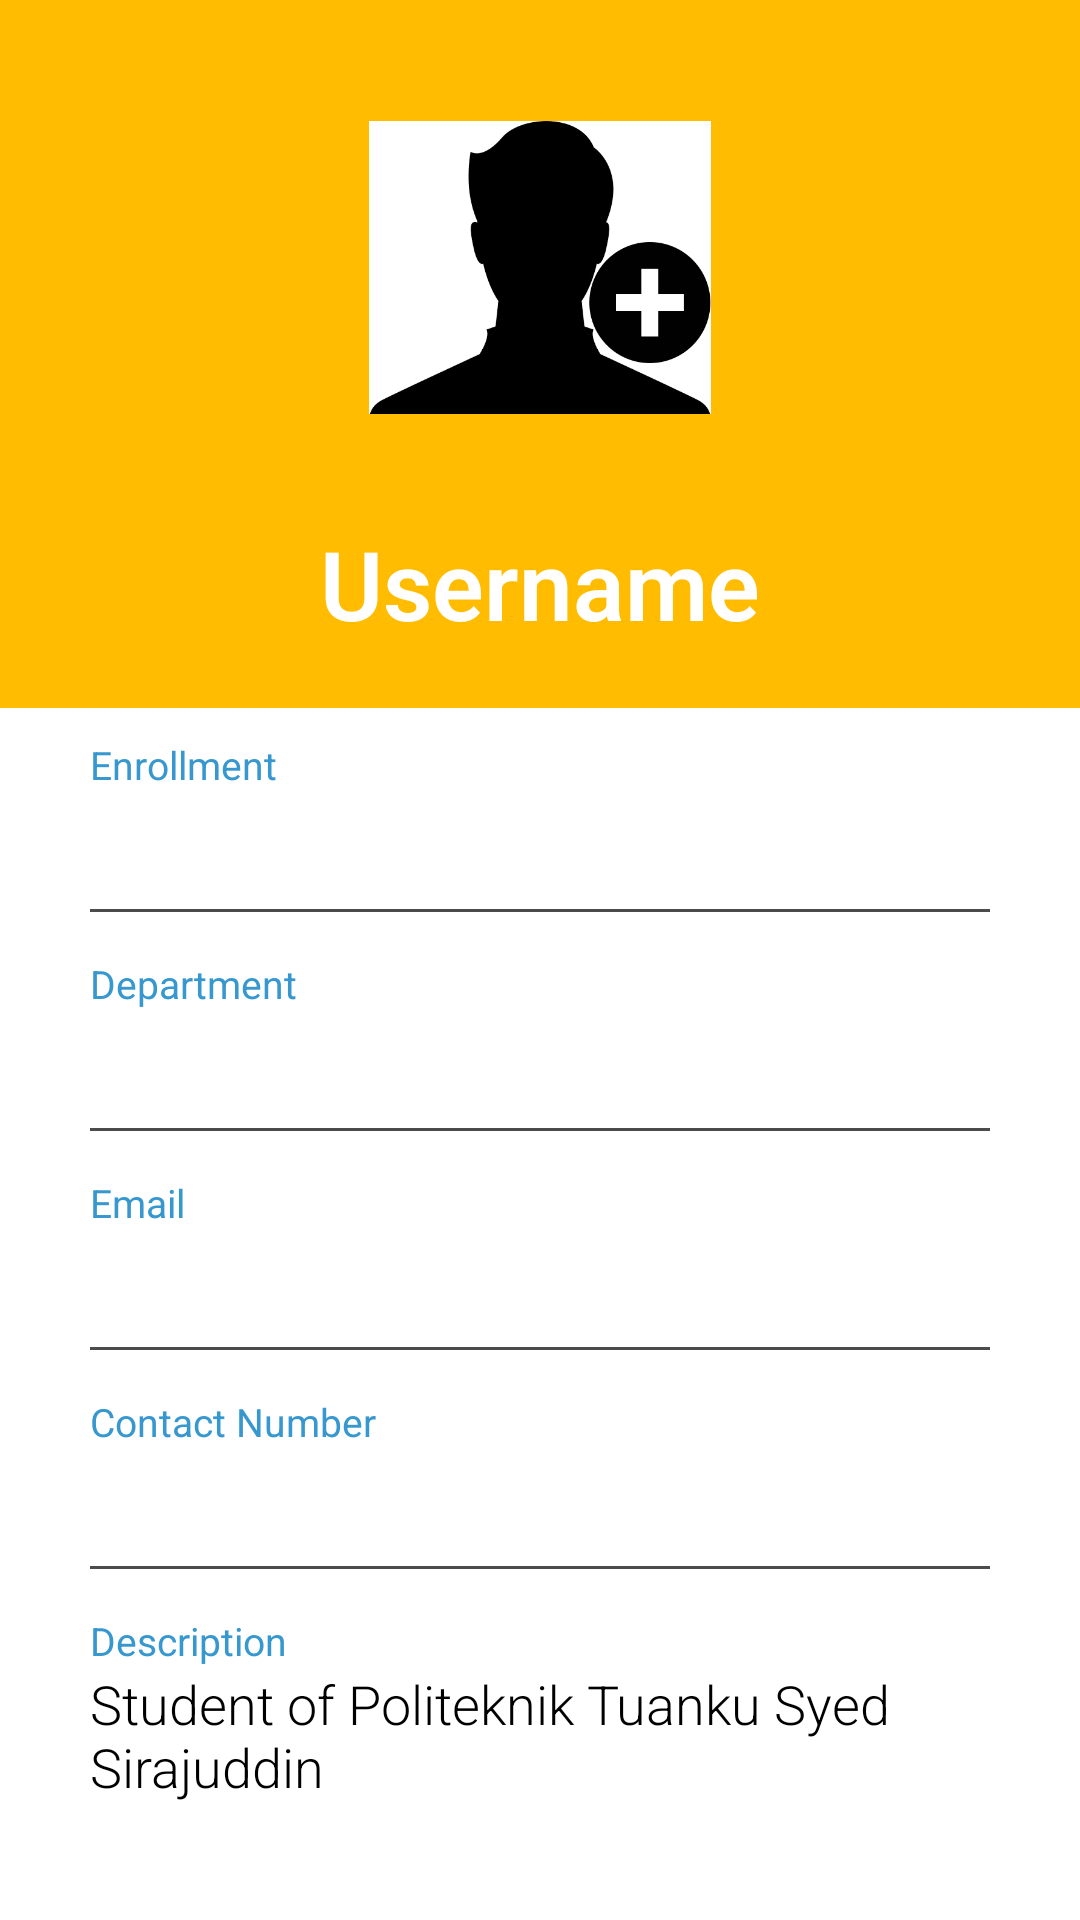

Icons on this 1080px x 1920px Android screen, each with the point to tap as (x=x, y=y):
profile: (x=540, y=267)
